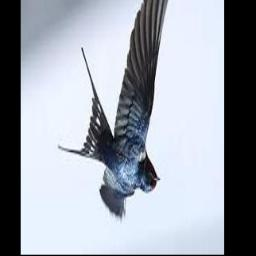Swallow: (58, 0, 180, 222)
